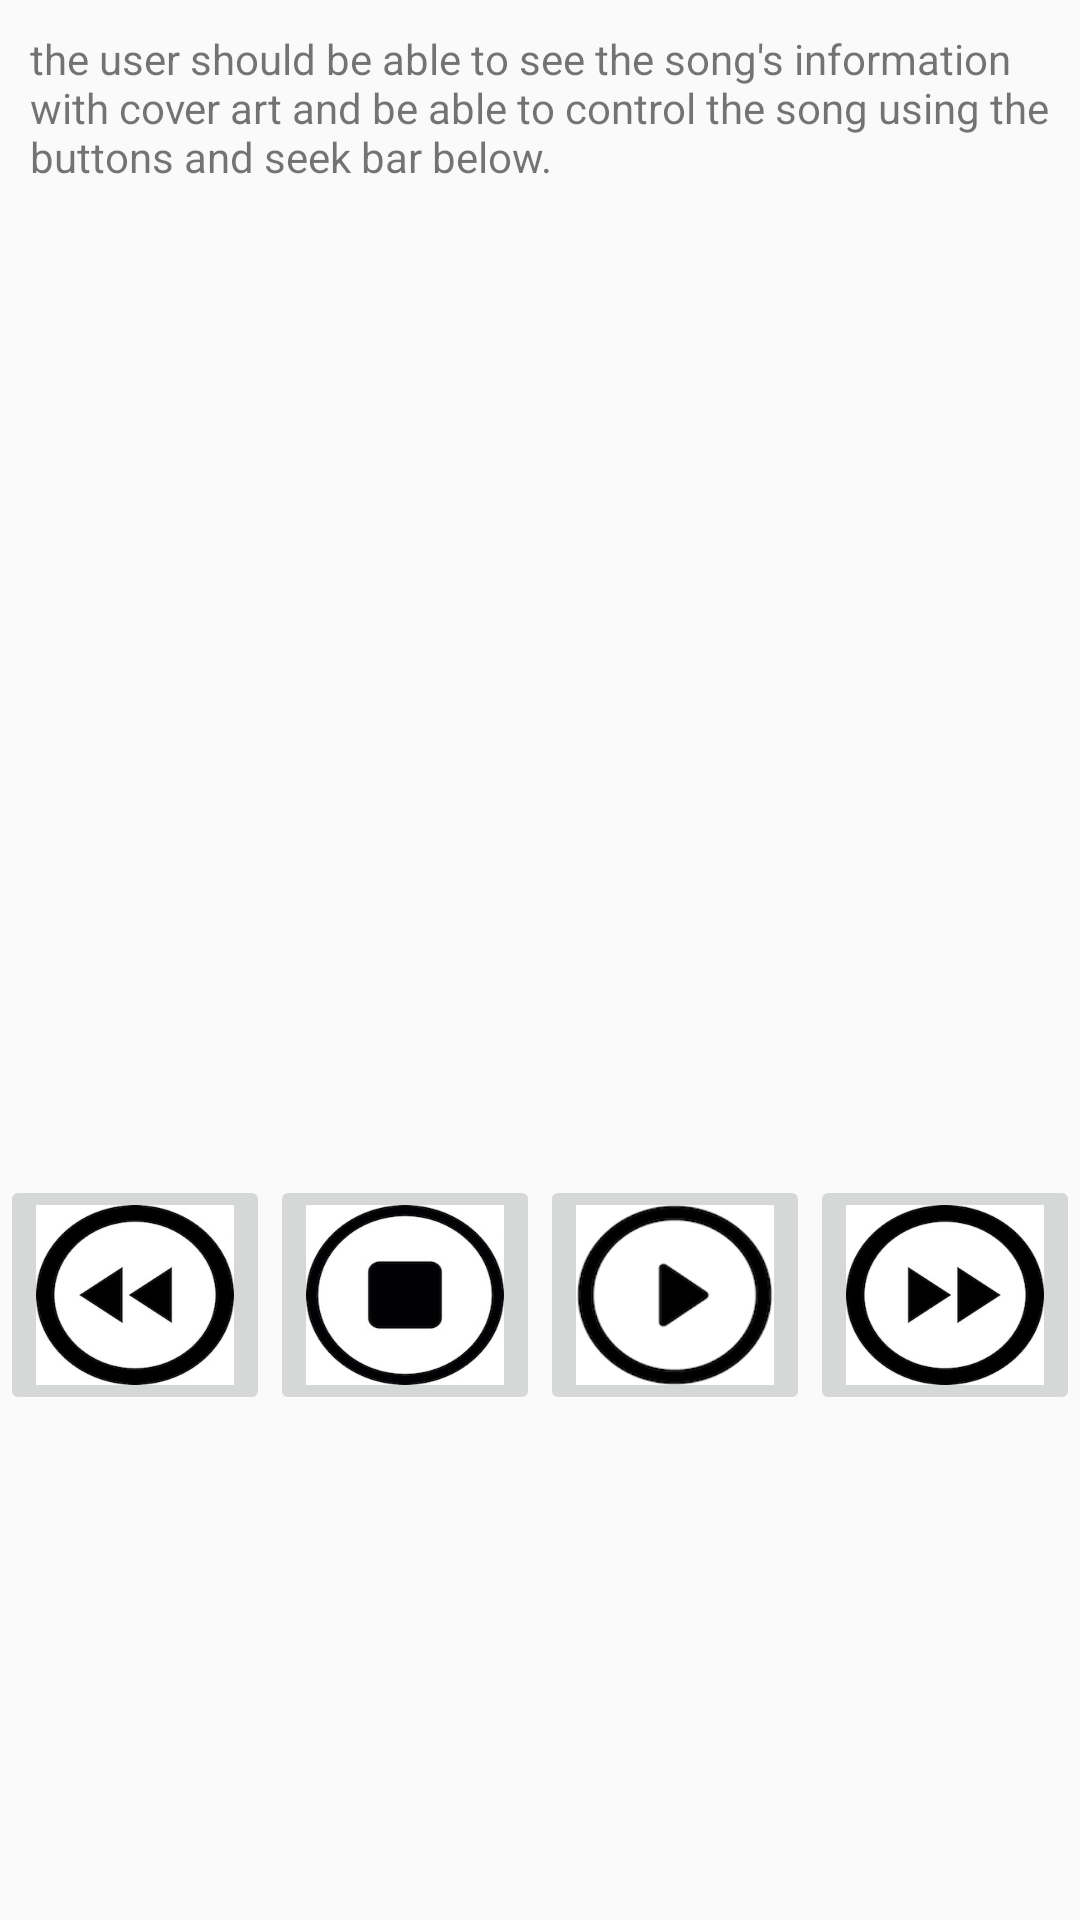

Named icons in this screenshot (1080 x 1920) and their bounding boxes, (x1, y1, x2, y2):
fast forward: (822, 1193, 1068, 1397)
play: (552, 1193, 798, 1397)
rewind: (12, 1193, 258, 1397)
stop: (282, 1193, 528, 1397)
